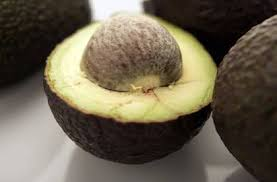aguacate: (36, 9, 223, 166)
